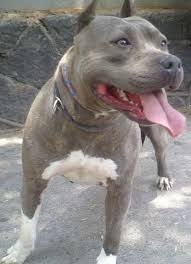Perro Pitbull: (21, 2, 191, 251)
